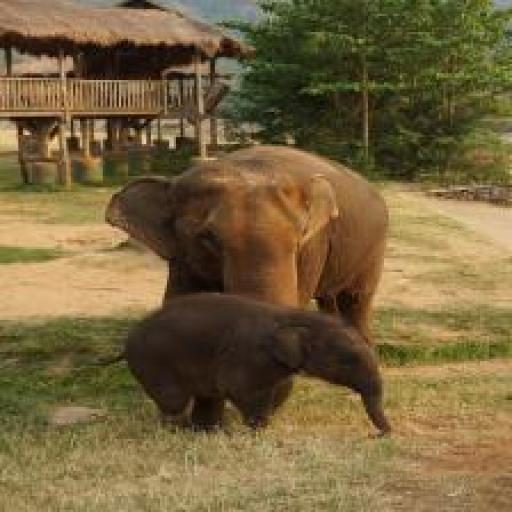Elephant: (103, 144, 391, 355), (84, 295, 391, 439)
